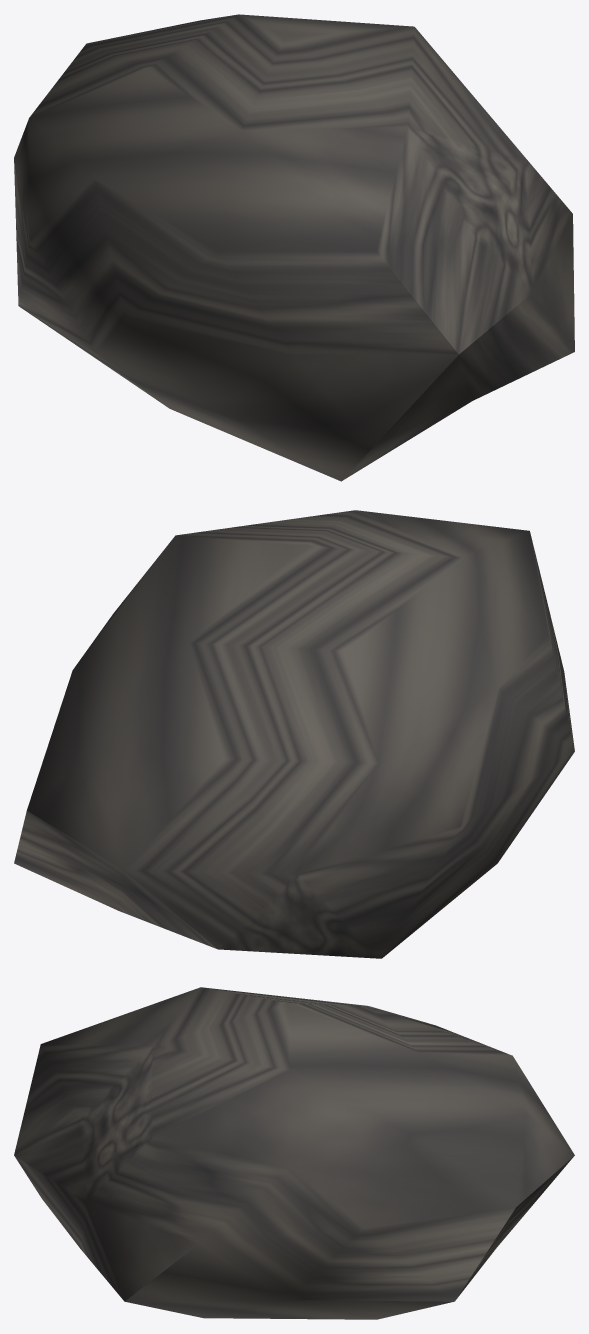
The model's file is TOOL_HandStone.fbx.
The picture shows the model from 3 angles, top to bottom: view 1: azimuth 30°, elevation 25°; view 2: azimuth 150°, elevation 25°; view 3: azimuth 270°, elevation 25°; orthographic projection. The views are drawn at different scales.
Visible parts, largest first — view 1: TOOL_HandStone; view 2: TOOL_HandStone; view 3: TOOL_HandStone.
Part boxes in pixels (left/top/right/bottom): TOOL_HandStone: left=14, top=14, right=574, bottom=481; TOOL_HandStone: left=14, top=510, right=574, bottom=958; TOOL_HandStone: left=14, top=987, right=574, bottom=1319.
Size of the model in its own units: 0.0843 by 0.0692 by 0.116.
